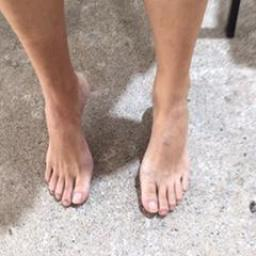Dorsal View -Both Feet-: (20, 48, 201, 223)
